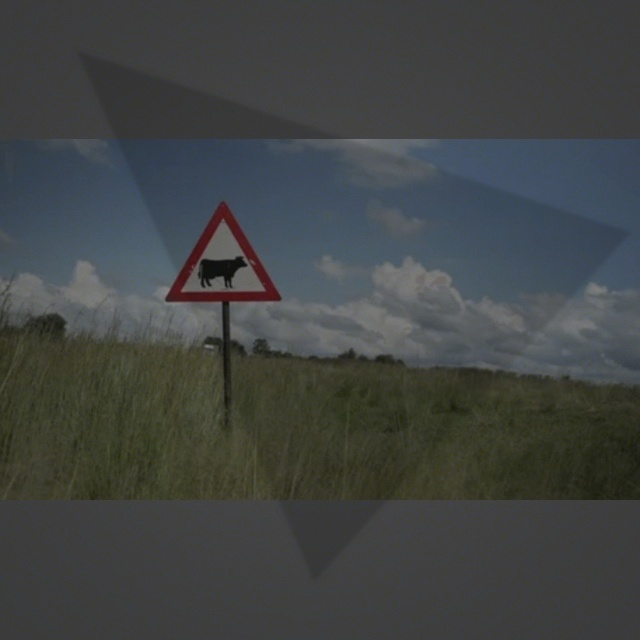Cattle: (171, 204, 279, 306)
